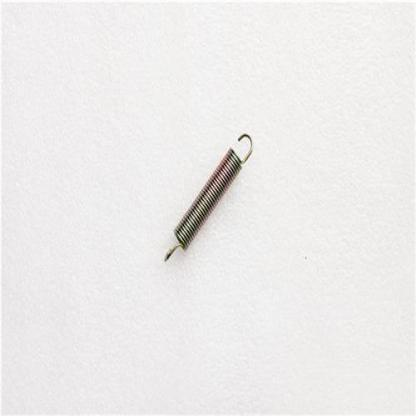FOD: (160, 131, 254, 266)
